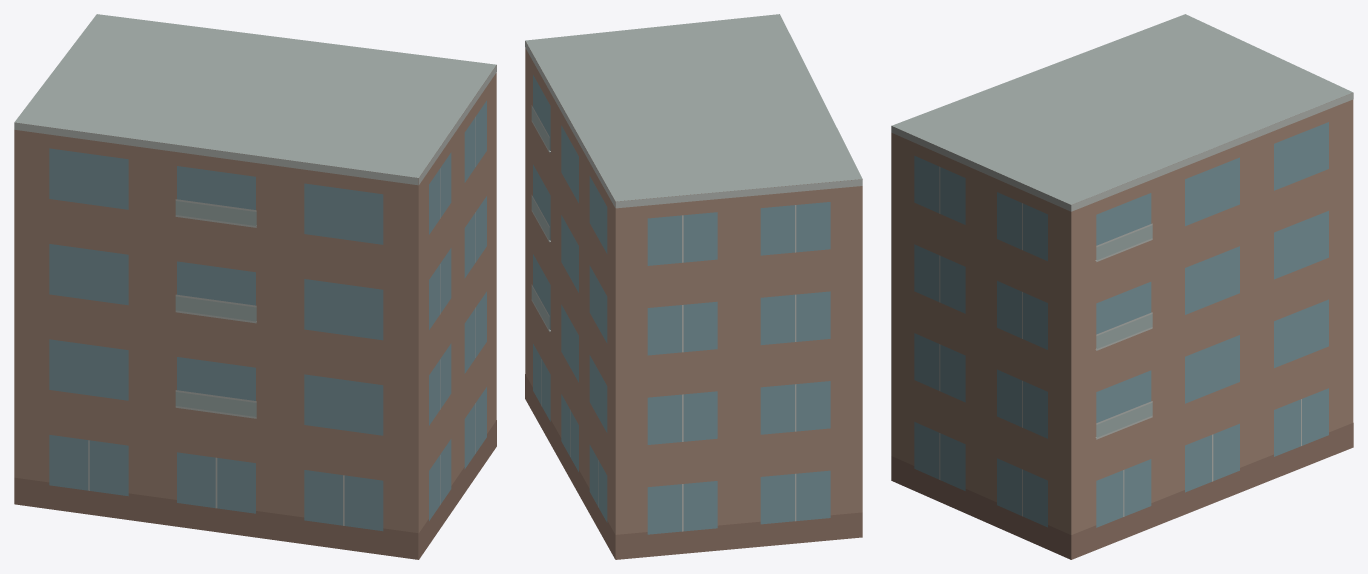
Rendered from survey-upis-32684118.glb.
3 renders of one model, left to right at view 1: azimuth 30°, elevation 25°; view 2: azimuth 150°, elevation 25°; view 3: azimuth 270°, elevation 25°, orthographic. The views are drawn at different scales.
Parts seen in each view (by area): view 1: survey-upis-32684118.tmp; view 2: survey-upis-32684118.tmp; view 3: survey-upis-32684118.tmp.
Boxes of the visible parts, x1,y1,x2,y2 form: survey-upis-32684118.tmp: (14,14,496,559); survey-upis-32684118.tmp: (525,14,862,559); survey-upis-32684118.tmp: (891,14,1353,559).
Bounding box in the file's own units: 14.66 × 12.7 × 14.99.
